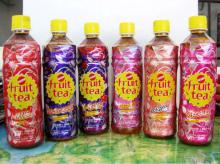botol: (1, 13, 42, 146), (180, 15, 214, 143), (142, 18, 176, 136), (143, 18, 176, 136), (43, 18, 75, 139), (77, 22, 107, 134), (77, 22, 106, 134), (112, 23, 141, 133)
